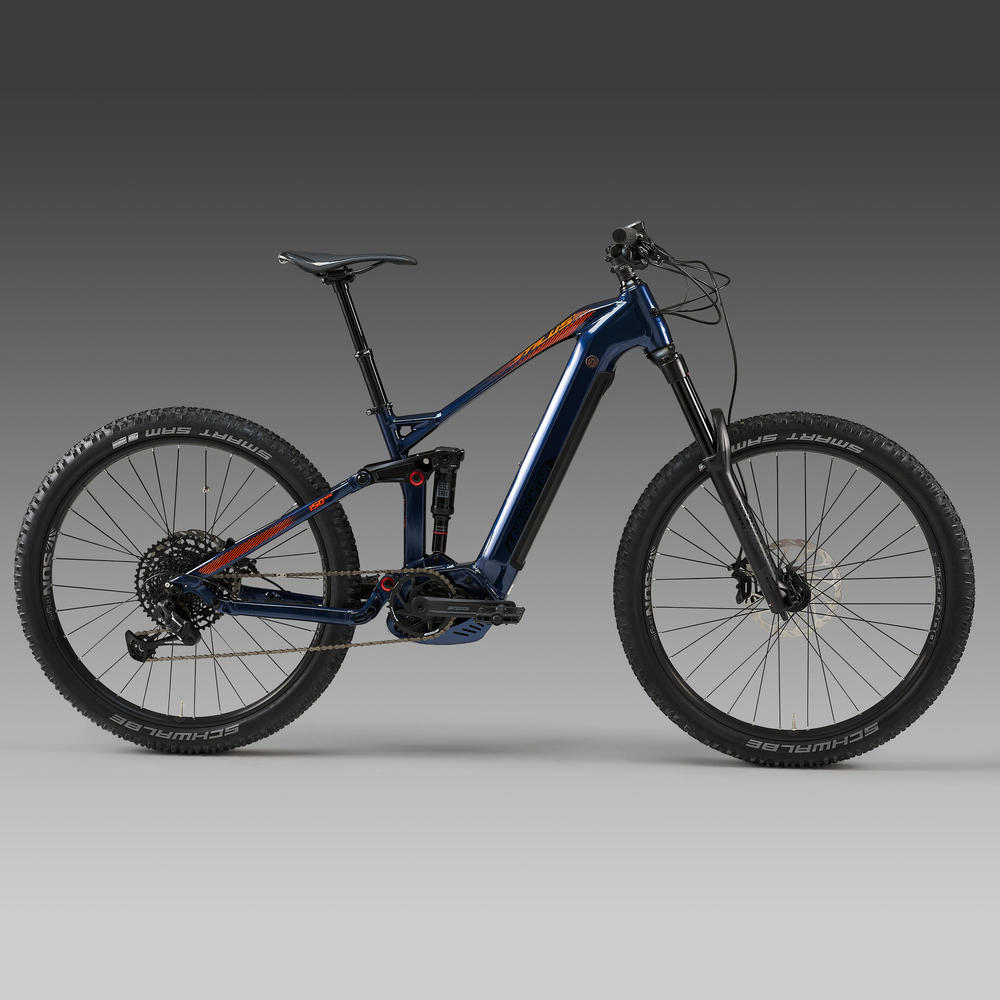MountainBike: (22, 210, 963, 766)
